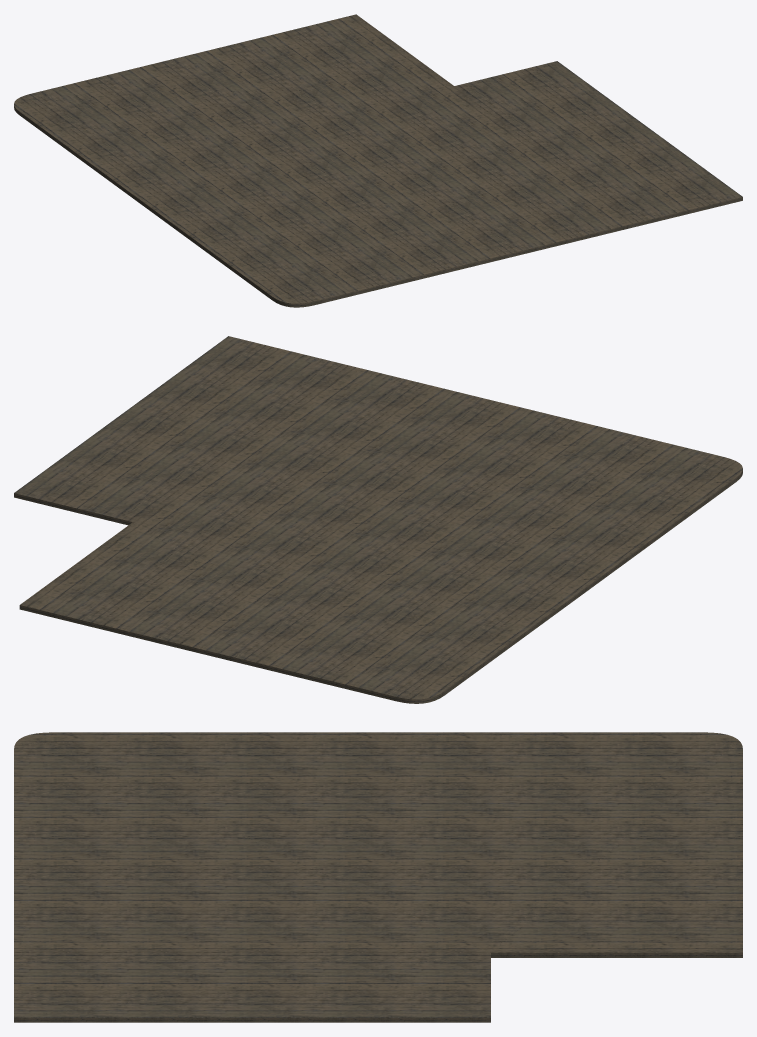
The model's file is Prop_Wood_Music_Stage.fbx.
3 views of the same model, one above another, from view 1: azimuth 30°, elevation 25°; view 2: azimuth 150°, elevation 25°; view 3: azimuth 270°, elevation 25° (orthographic). The views are drawn at different scales.
Visible parts, largest first — view 1: Prop_Wood_Music_Stage; view 2: Prop_Wood_Music_Stage; view 3: Prop_Wood_Music_Stage.
Part boxes in pixels (x1,y1,x2,y2): Prop_Wood_Music_Stage: [14, 14, 742, 307]; Prop_Wood_Music_Stage: [14, 336, 742, 703]; Prop_Wood_Music_Stage: [14, 732, 742, 1022].
Size of the model in its own units: 271 by 2.19 by 293.
